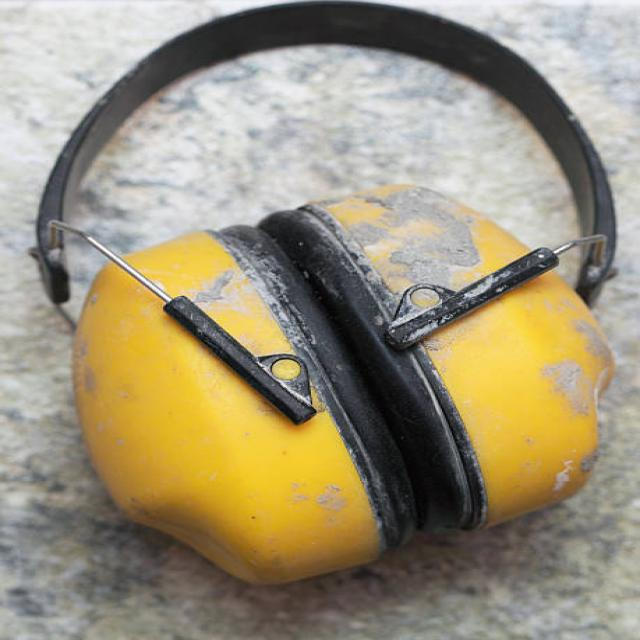Ear-protection: (10, 8, 640, 589)
